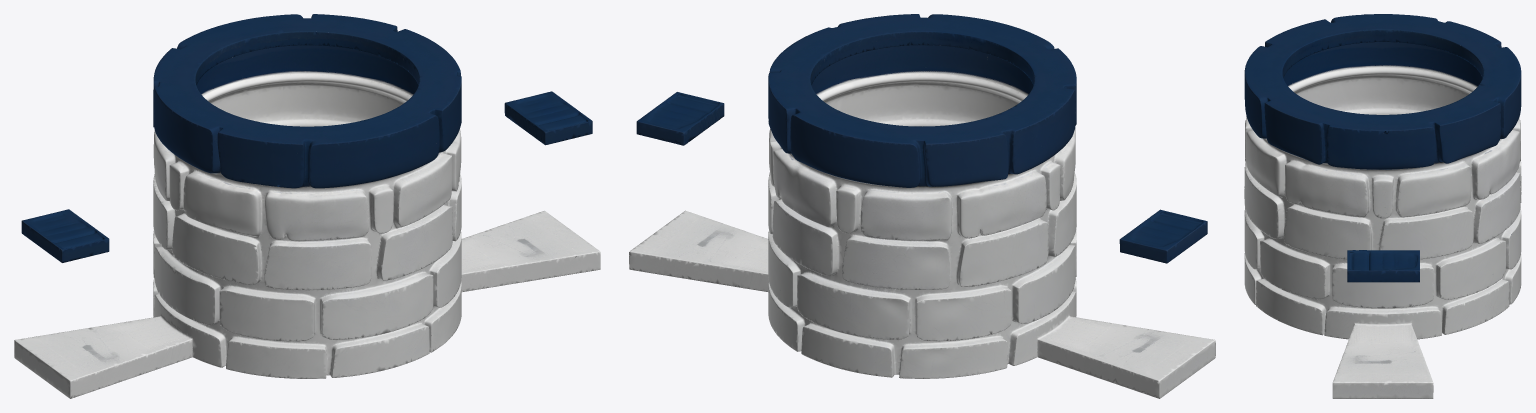
The model's file is Style_Well.glb.
The picture shows the model from 3 angles, left to right: view 1: azimuth 30°, elevation 25°; view 2: azimuth 150°, elevation 25°; view 3: azimuth 270°, elevation 25°; orthographic projection. The views are drawn at different scales.
Bounding box in the file's own units: 1.9 × 0.8038 × 0.9579.
1 material, 1 textured.
